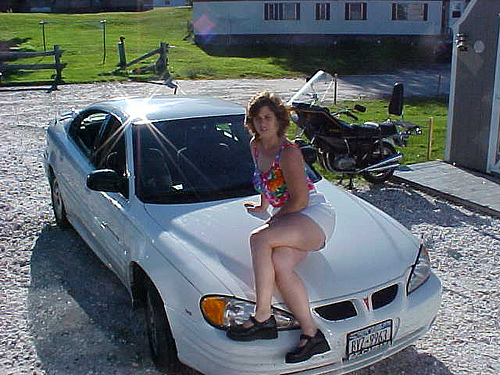without_mask: (250, 105, 283, 138)
